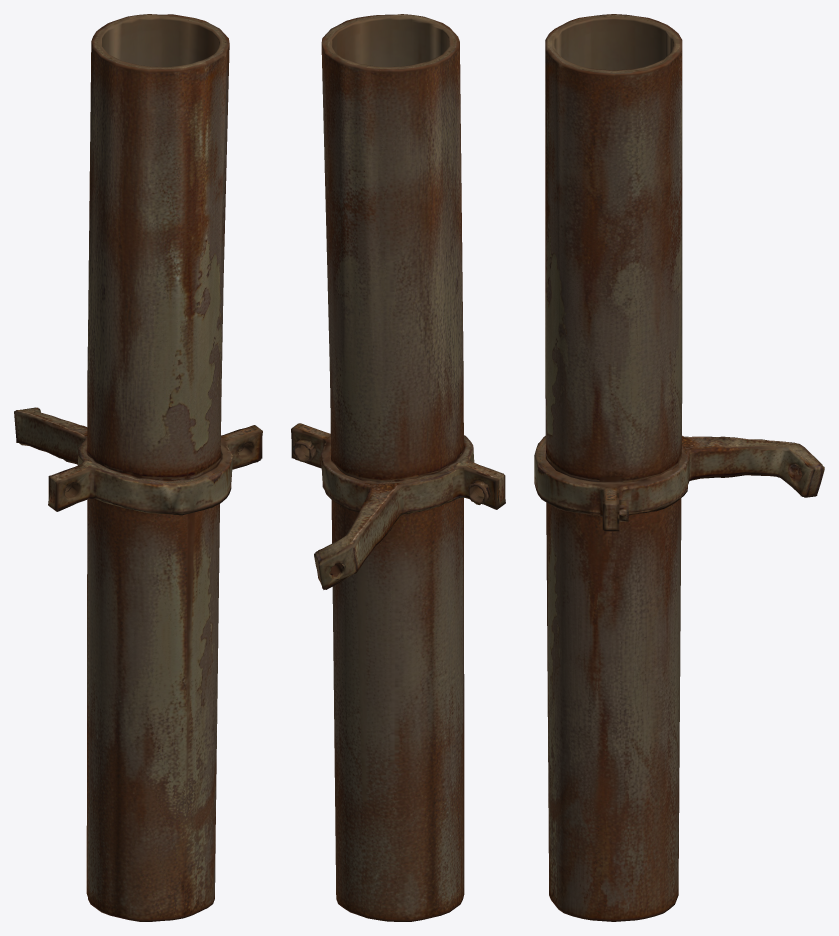
File: modular_pipe.glb
The picture shows the model from 3 angles, left to right: view 1: azimuth 30°, elevation 25°; view 2: azimuth 150°, elevation 25°; view 3: azimuth 270°, elevation 25°; orthographic projection.
Parts seen in each view (by area): view 1: tripo_node_209b014b-a9c7-4ea1-8c15-6be7cf9969ca; view 2: tripo_node_209b014b-a9c7-4ea1-8c15-6be7cf9969ca; view 3: tripo_node_209b014b-a9c7-4ea1-8c15-6be7cf9969ca.
Part boxes in pixels (x1,y1,x2,y2): tripo_node_209b014b-a9c7-4ea1-8c15-6be7cf9969ca: [14, 14, 262, 921]; tripo_node_209b014b-a9c7-4ea1-8c15-6be7cf9969ca: [291, 14, 505, 921]; tripo_node_209b014b-a9c7-4ea1-8c15-6be7cf9969ca: [534, 14, 824, 921].
Size of the model in its own units: 0.2559 by 0.998 by 0.3066.
Materials: 1 (1 with a texture image).
